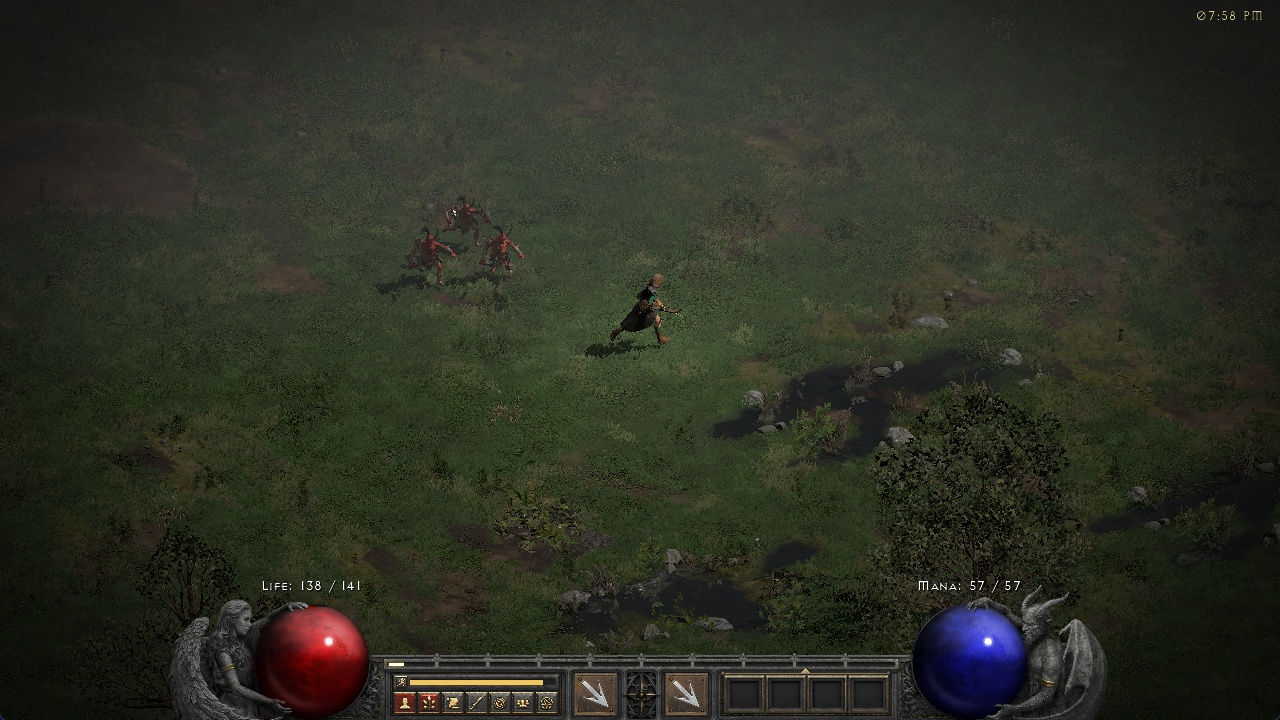fallen: (406, 231, 455, 287), (482, 226, 522, 278), (439, 196, 488, 230)
